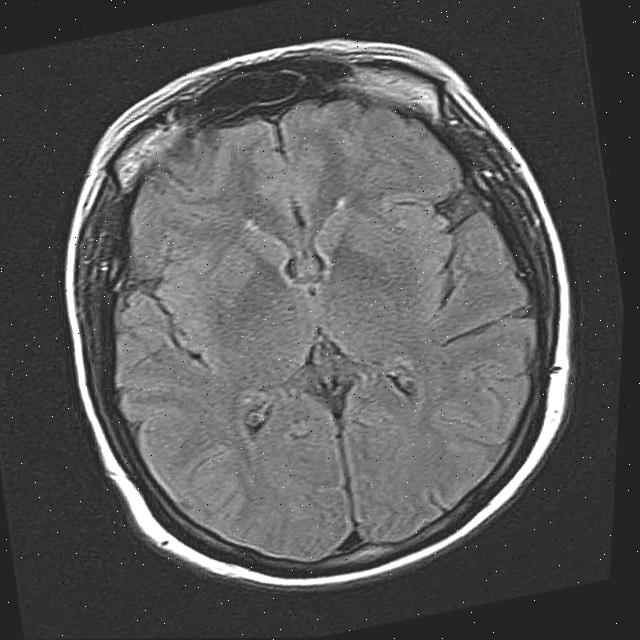NoTumor: (4, 0, 640, 637)
